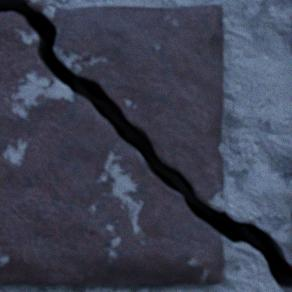broken_brick: (0, 12, 223, 285), (27, 2, 223, 211)
crack: (0, 0, 291, 291)
